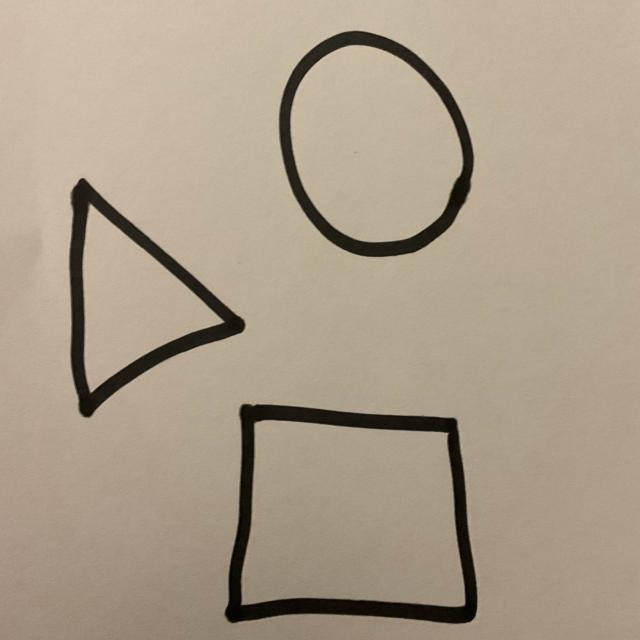Dreieck: (67, 180, 246, 419)
Kreis: (277, 31, 476, 261)
Quadrat: (224, 404, 479, 627)
